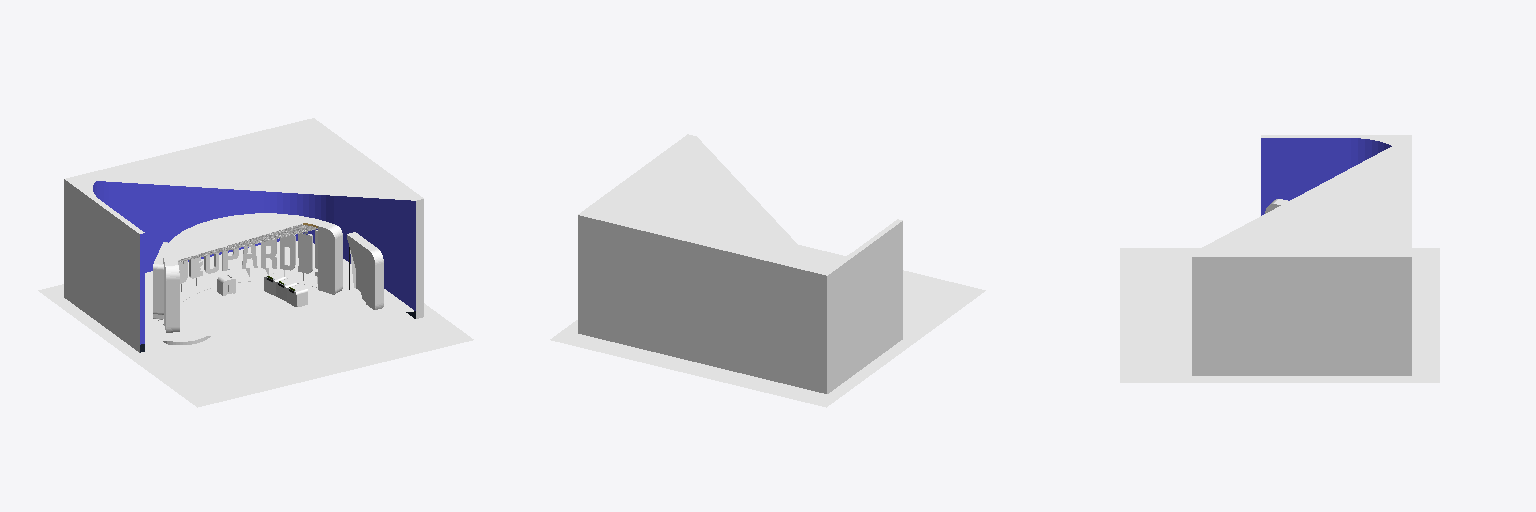
The picture shows the model from 3 angles: view 1: azimuth 30°, elevation 25°; view 2: azimuth 150°, elevation 25°; view 3: azimuth 270°, elevation 25°; orthographic projection.
Visible parts, largest first — view 1: Mesh1 Super_Jeopardy__semi_finals_and_finals_round_set1 Model; view 2: Mesh1 Super_Jeopardy__semi_finals_and_finals_round_set1 Model; view 3: Mesh1 Super_Jeopardy__semi_finals_and_finals_round_set1 Model.
Boxes of the visible parts, <box> form: Mesh1 Super_Jeopardy__semi_finals_and_finals_round_set1 Model: <box>38,118,473,407</box>; Mesh1 Super_Jeopardy__semi_finals_and_finals_round_set1 Model: <box>550,134,985,407</box>; Mesh1 Super_Jeopardy__semi_finals_and_finals_round_set1 Model: <box>1120,135,1439,382</box>.
Bounding box in the file's own units: 13.98 × 5.72 × 13.98.
Materials: 11 (2 with a texture image).